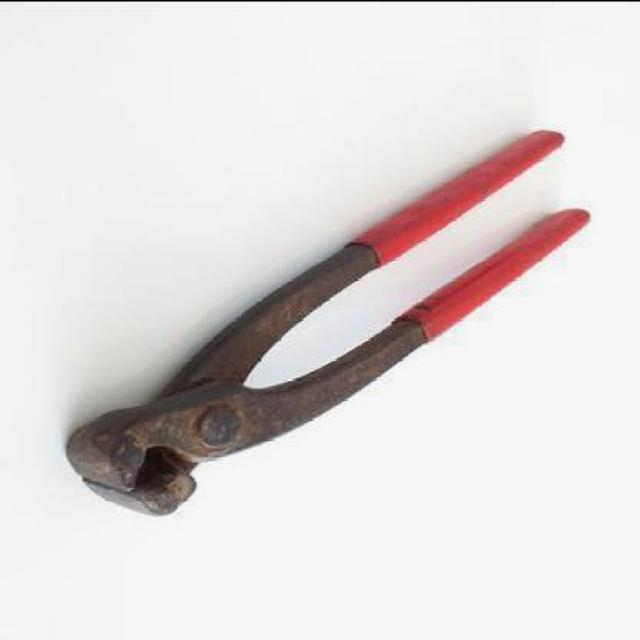pliers: (62, 128, 598, 514)
